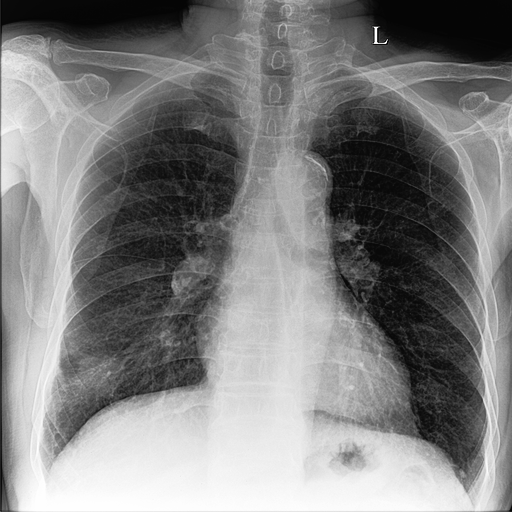Lung Opacity: (289, 140, 336, 189), (454, 464, 471, 482)
Other lesion: (162, 250, 209, 293)
Pulmonary fibrosis: (62, 340, 133, 409), (451, 461, 474, 485)
